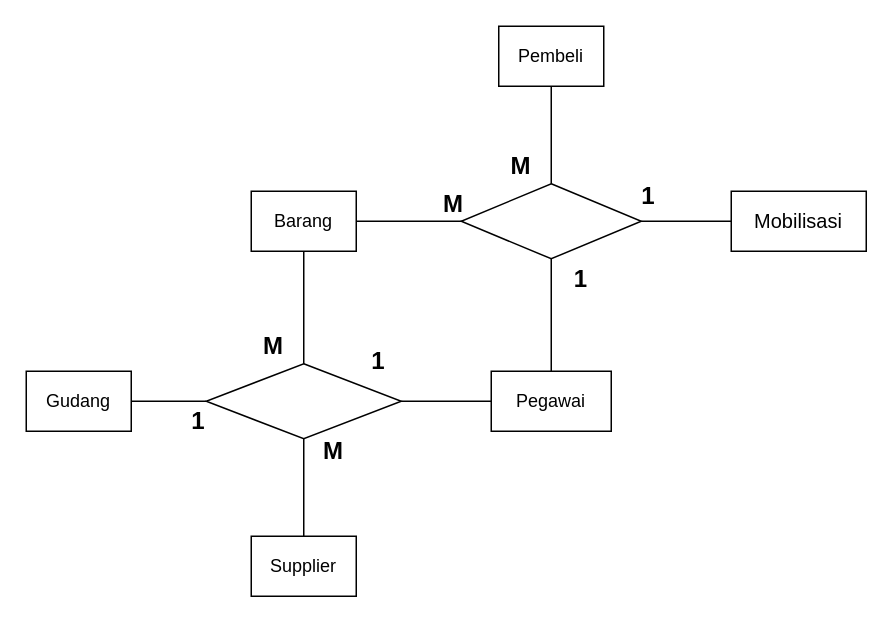
This 893x623 diagram has some shape labels left out. Here are the shapes that lost their labels. From the top down, the centre of each, then its label:
point 550,220: Pembelian
point 303,400: Penyimpanan
